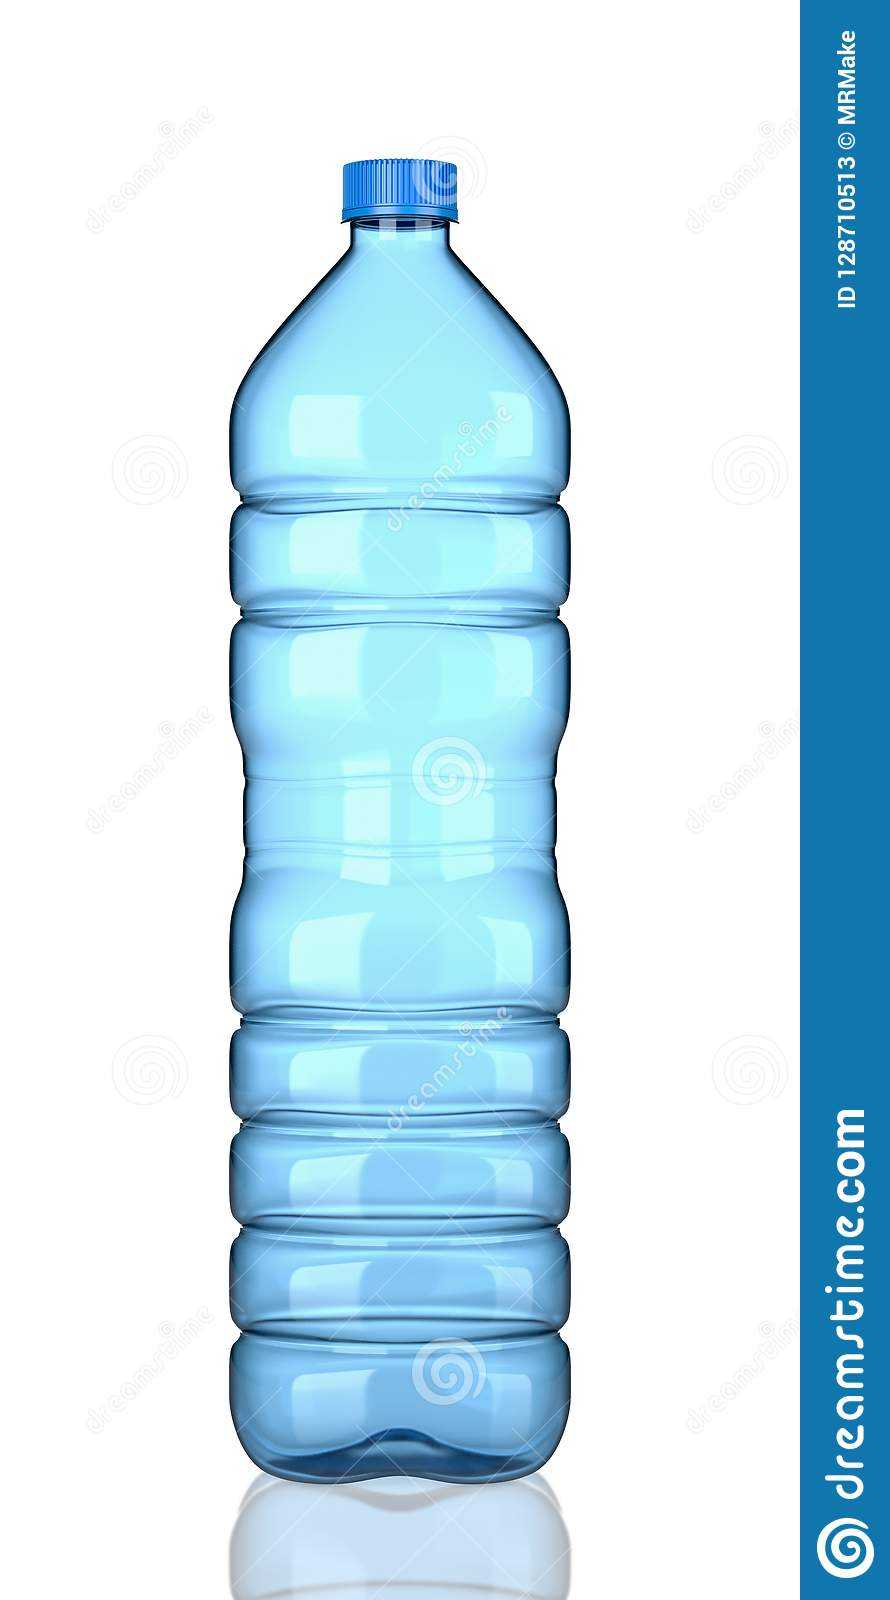plastic: (209, 151, 589, 1494)
